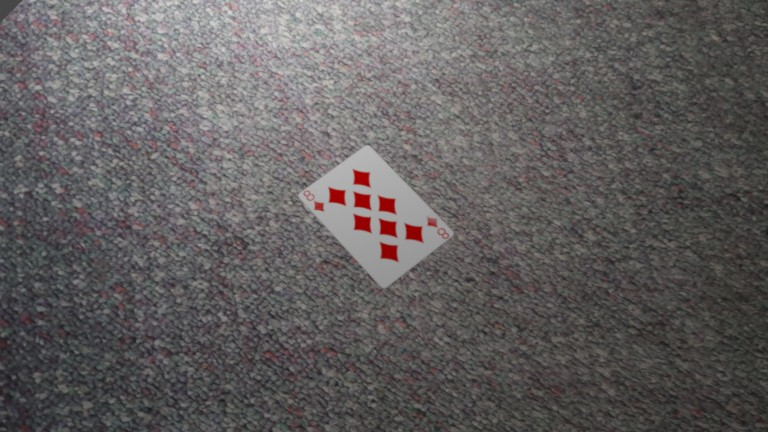8_of_diamonds: (168, 84, 181, 97), (120, 75, 133, 87)
